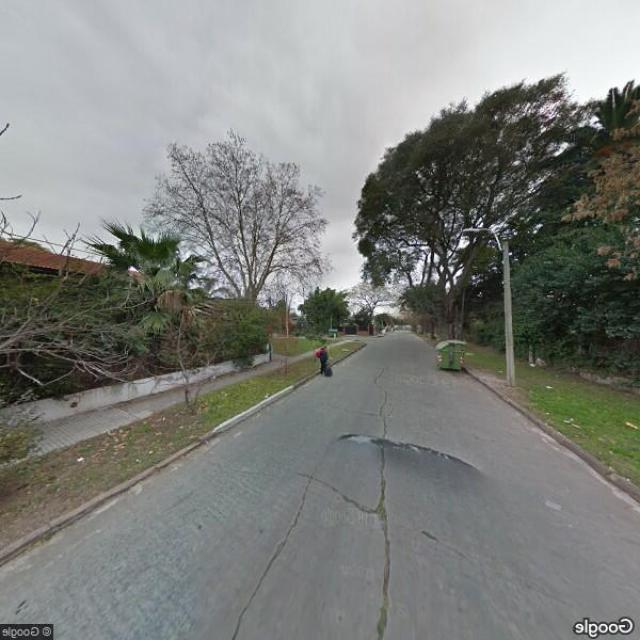garbage container: (429, 332, 480, 382)
